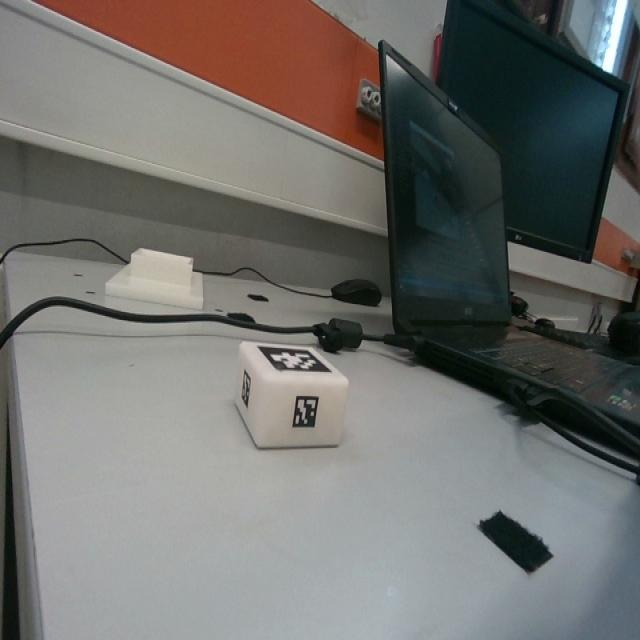Cube: (236, 342, 347, 447)
